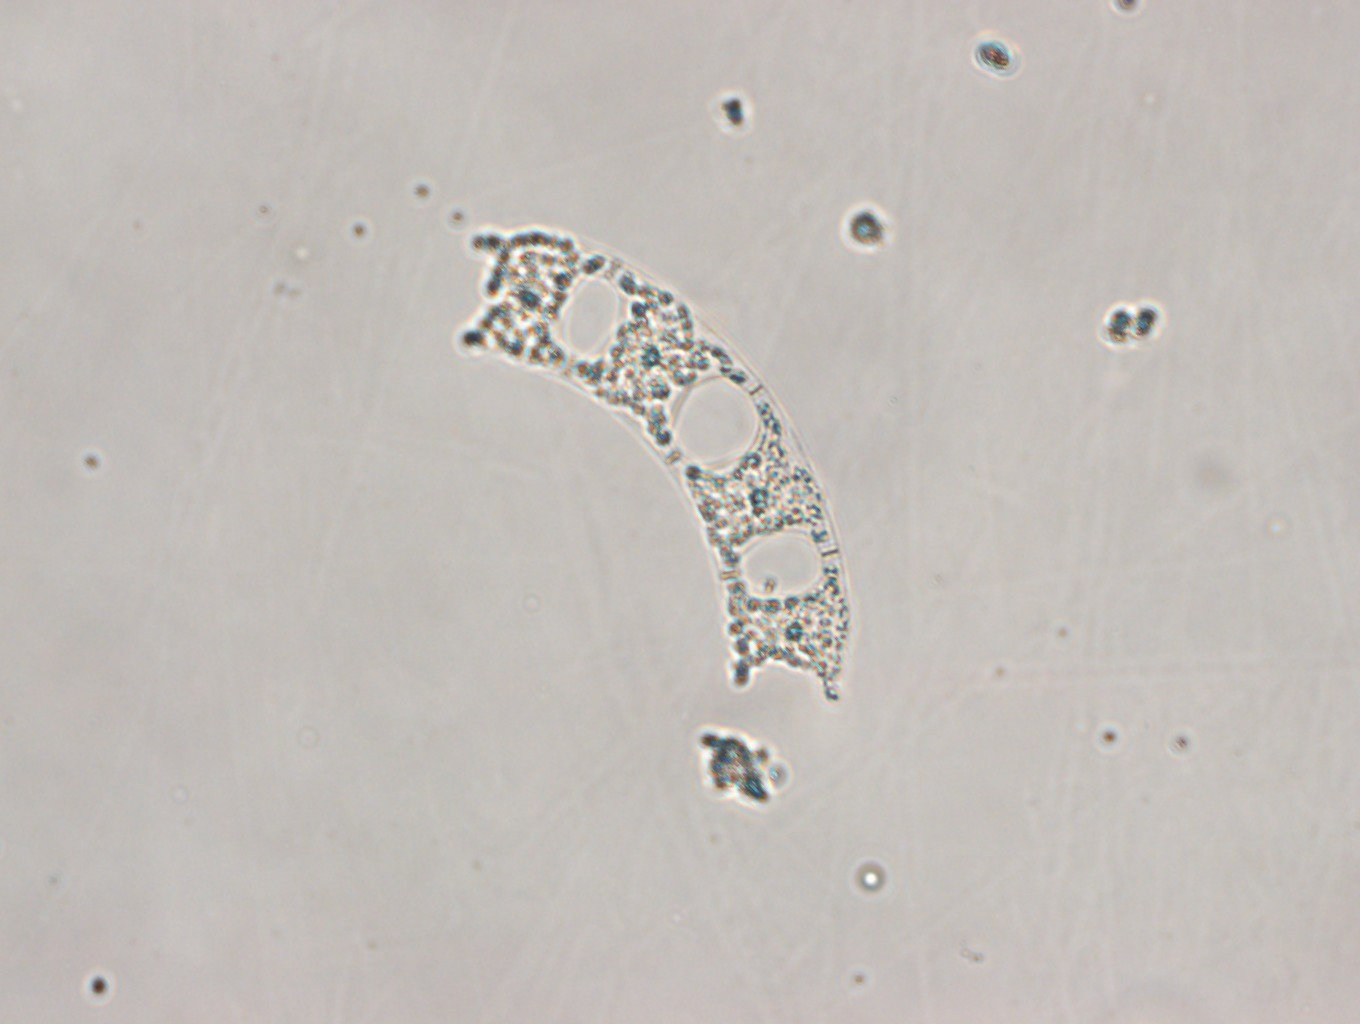eucampia: (454, 224, 853, 701)
